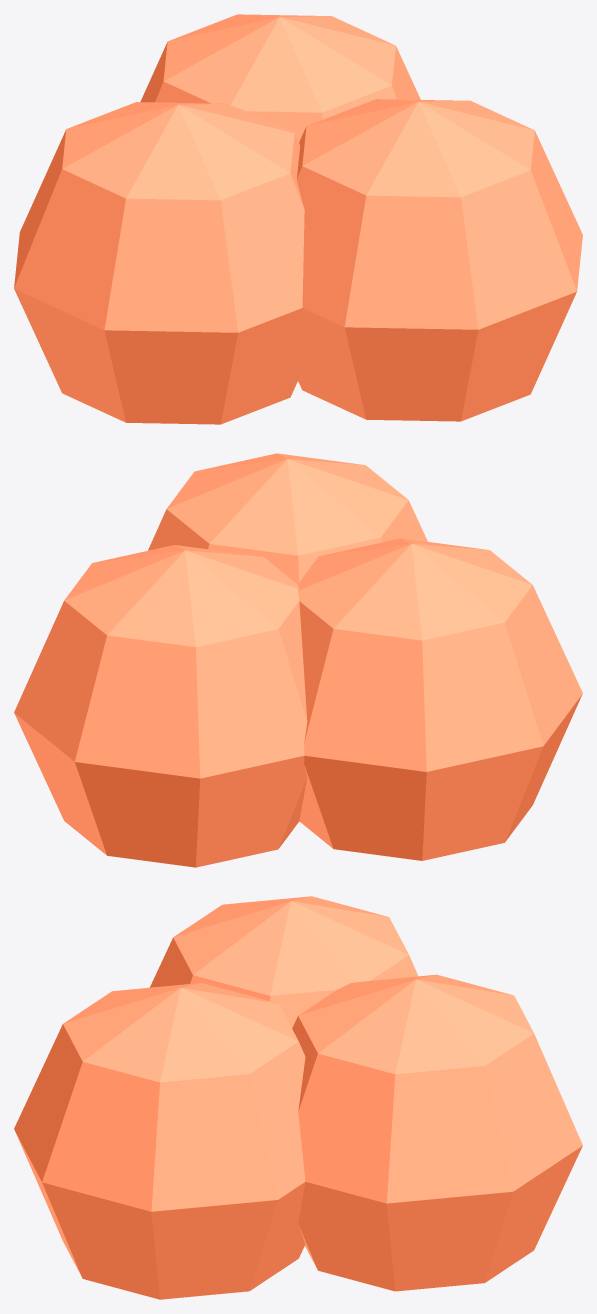
The model's file is Seed.FBX.
The picture shows the model from 3 angles, top to bottom: view 1: azimuth 30°, elevation 25°; view 2: azimuth 150°, elevation 25°; view 3: azimuth 270°, elevation 25°; orthographic projection. The views are drawn at different scales.
Parts seen in each view (by area): view 1: Sphere022; view 2: Sphere022; view 3: Sphere022.
Boxes of the visible parts, box(x1,y1,x2,y2) form: Sphere022: box(14, 14, 582, 424); Sphere022: box(14, 453, 582, 867); Sphere022: box(14, 896, 582, 1299).
Size of the model in its own units: 27.15 by 17.08 by 28.68.
